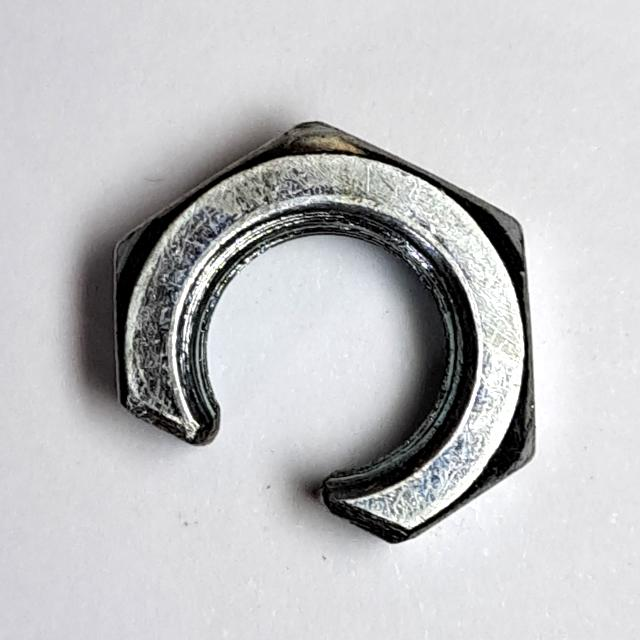Fracture: (94, 98, 556, 557)
